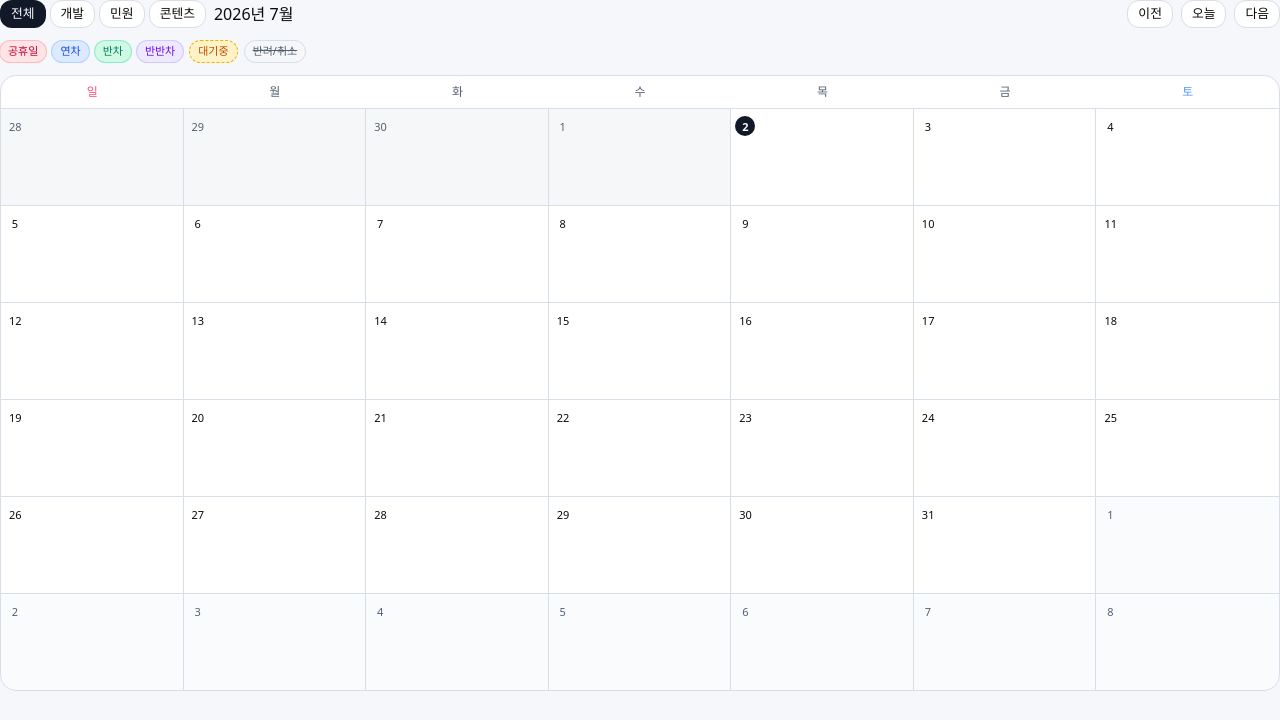
Test case: LeaveCalendar — 능력별 진입 분리(R1/R4) › canCreate=false·canManage=true: + 없음, 팝오버는 관리자 직접입력만
Click the button "15" at (640, 350), box [549,302,731,398]
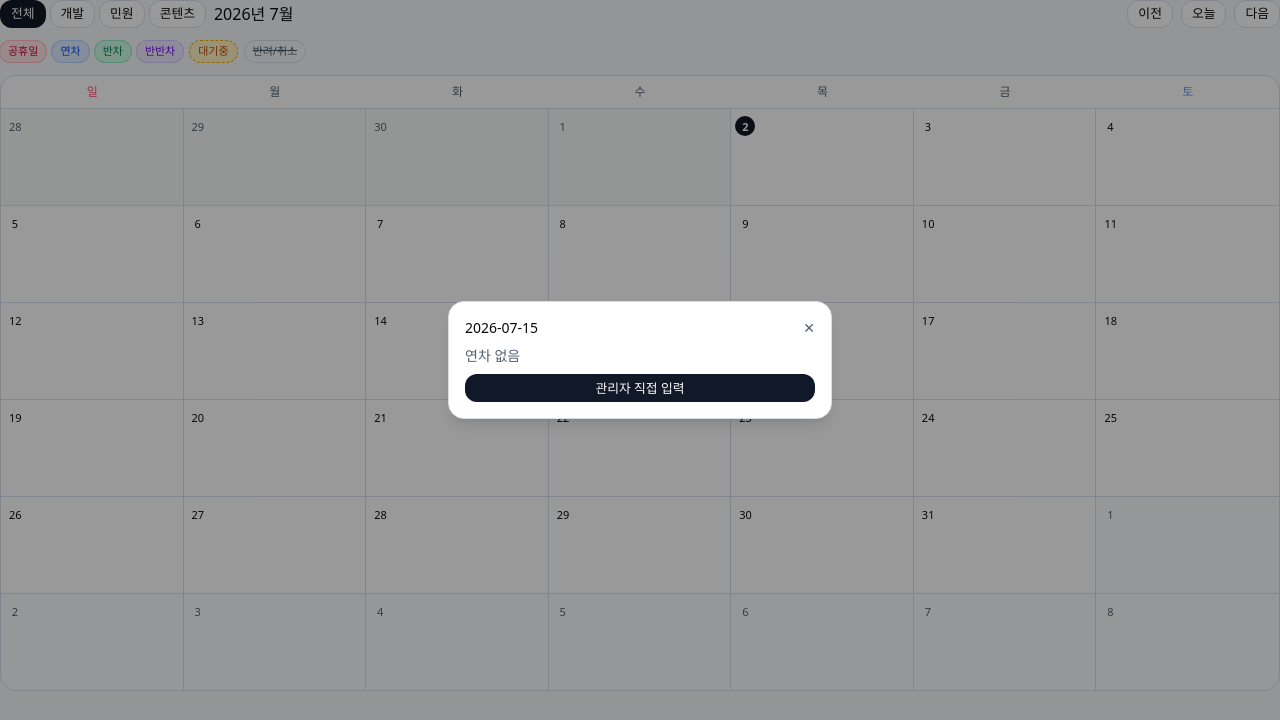
Expected: the button "관리자 직접 입력" is shown, [465,374,815,402]
